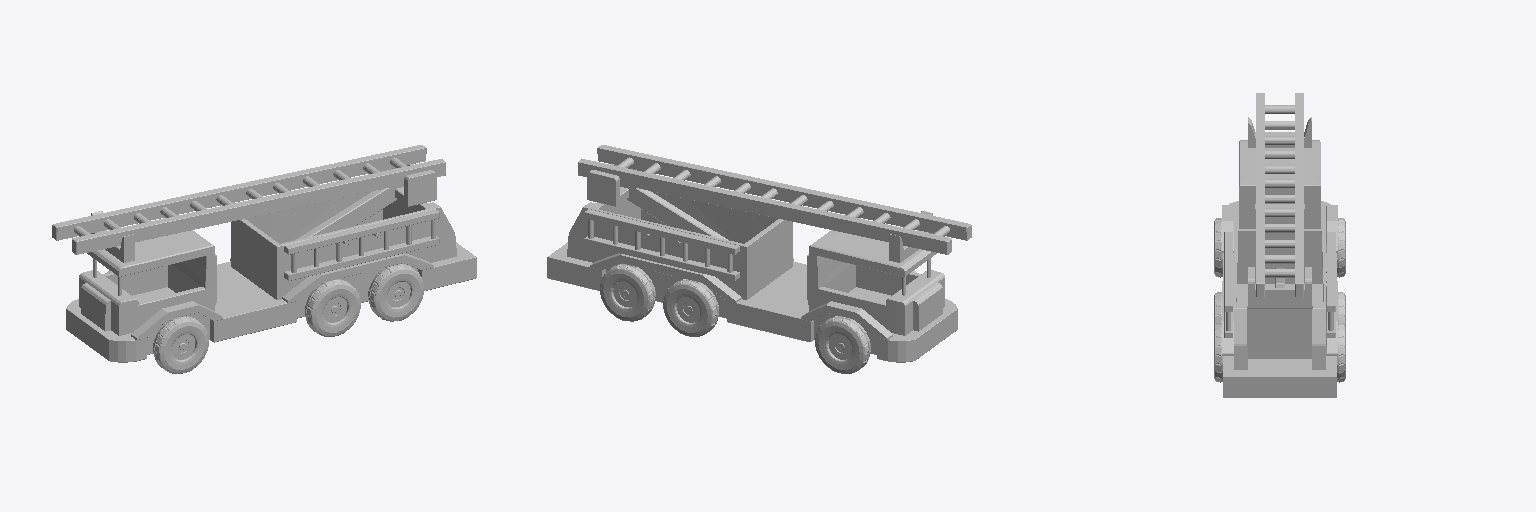
File: Fire_Truck_Whole.obj
3 views of the same model, side by side, from view 1: azimuth 30°, elevation 25°; view 2: azimuth 150°, elevation 25°; view 3: azimuth 270°, elevation 25° (orthographic).
Parts seen in each view (by area): view 1: pCylinder51; view 2: pCylinder51; view 3: pCylinder51.
Part boxes in pixels (left/top/right/bottom): pCylinder51: left=52, top=145, right=476, bottom=373; pCylinder51: left=547, top=145, right=971, bottom=373; pCylinder51: left=1214, top=93, right=1345, bottom=397.
Bounding box in the file's own units: 2331 × 810 × 696.